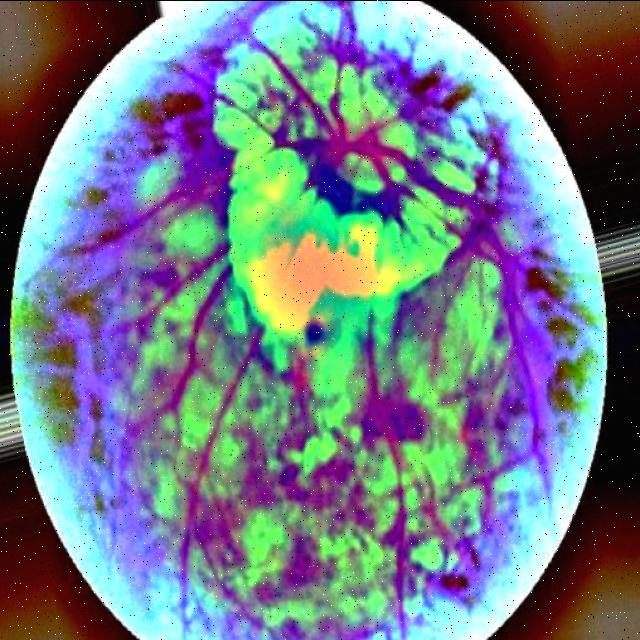Macula: (306, 321, 329, 346)
Nerves: (74, 138, 340, 253), (355, 143, 513, 283), (182, 332, 264, 547), (249, 35, 350, 145)
Optic Disk: (220, 28, 477, 284)
